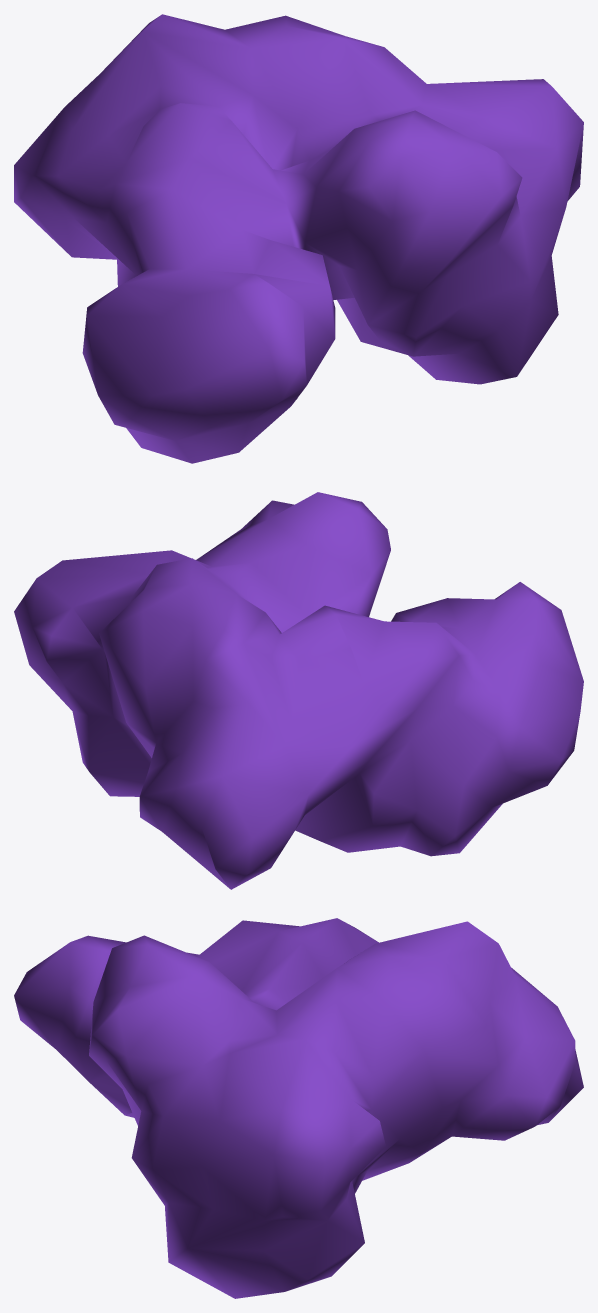
File: MiinBloodPlasma_HSA_LauricAcid_1e7f_0_1_0.dae
The picture shows the model from 3 angles, top to bottom: view 1: azimuth 30°, elevation 25°; view 2: azimuth 150°, elevation 25°; view 3: azimuth 270°, elevation 25°; orthographic projection. The views are drawn at different scales.
Visible parts, largest first — view 1: CoarseMS_1e7f; view 2: CoarseMS_1e7f; view 3: CoarseMS_1e7f.
Part boxes in pixels (x1,y1,x2,y2): CoarseMS_1e7f: (14,14,583,463); CoarseMS_1e7f: (14,492,583,889); CoarseMS_1e7f: (14,918,583,1298).
Size of the model in its own units: 89.58 by 51.95 by 90.78.
